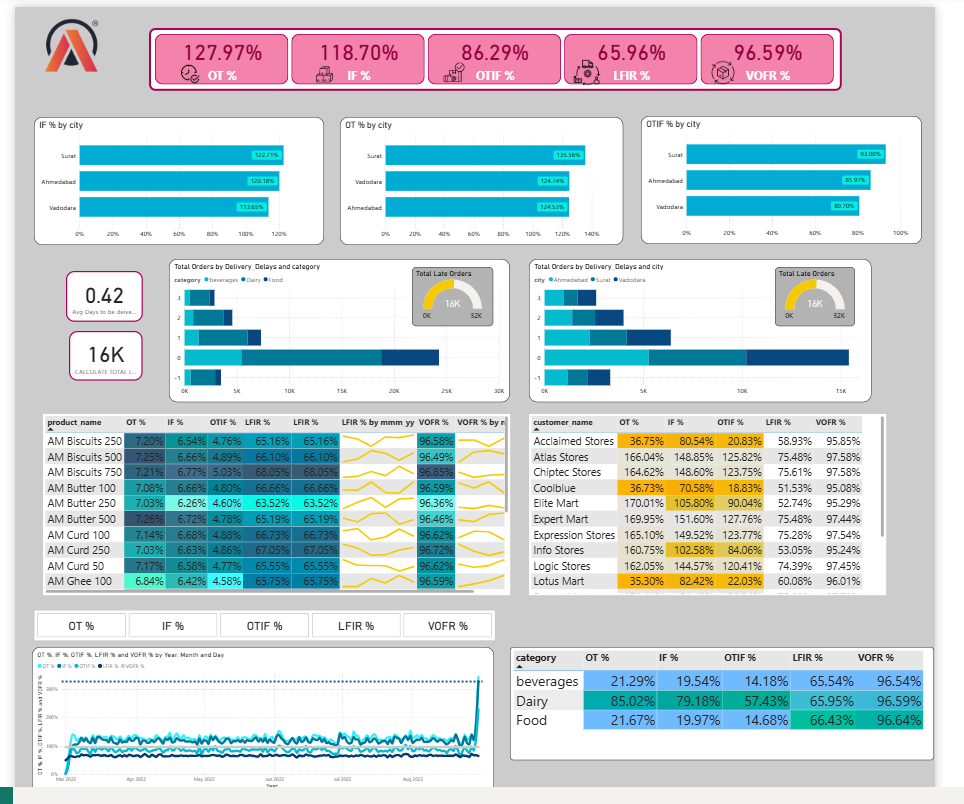

What the dashboard file says about the page in this screenshot:
{"tool":"powerbi","page":{"name":"Page 1","canvas":[2300,2000],"ordinal":0},"visuals":[{"type":"cardVisual","fields":{"Data":["Metrics.On Time %","Metrics.IN Full %","Metrics.OTIF %","Metrics.LFIR %","Metrics.VOFR %"]},"box":[335,53.3,1731.7,156.7],"z":0},{"type":"clusteredBarChart","fields":{"Category":["dim_customers.city"],"Y":["Metrics.IF %"]},"box":[47.5,275,725,320],"z":1000},{"type":"clusteredBarChart","fields":{"Category":["dim_customers.city"],"Y":["Metrics.OT %"]},"box":[813.3,275,708.3,320],"z":2000},{"type":"clusteredBarChart","fields":{"Category":["dim_customers.city"],"Y":["Metrics.OTIF %"]},"box":[1565,273.3,701.7,320],"z":3000},{"type":"tableEx","fields":{"Values":["dim_products.product_name","Metrics.OT %","Metrics.IF %","Metrics.OTIF %","Metrics.LFIR %","Metrics.LFIR %","SparklineData(Metrics.LFIR %_[dim_date.mmm_yy])","Metrics.VOFR %","SparklineData(Metrics.VOFR %_[dim_date.mmm_yy])"]},"box":[70,1017.5,1167.5,452.5],"z":4000},{"type":"tableEx","fields":{"Values":["dim_products.category","Metrics.OT %","Metrics.IF %","Metrics.OTIF %","Metrics.LFIR %","Metrics.VOFR %"]},"box":[1238.3,1600,1060,283.3],"z":5000},{"type":"tableEx","fields":{"Values":["dim_customers.customer_name","Metrics.OT %","Metrics.IF %","Metrics.OTIF %","Metrics.LFIR %","Metrics.VOFR %"]},"box":[1285,1017.5,892.5,452.5],"z":6000},{"type":"advancedSlicerVisual","fields":{"Values":["Parameter 2.Parameter"]},"box":[48.3,1506.7,1153.3,76.7],"z":8000},{"type":"barChart","fields":{"Category":["fact_order_lines.Delivery_Delays"],"Y":["Metrics.Total Orders"],"Series":["dim_customers.city"]},"box":[1286,630,856,358],"z":9000},{"type":"barChart","fields":{"Category":["fact_order_lines.Delivery_Delays"],"Y":["Metrics.Total Orders"],"Series":["dim_products.category"]},"box":[386,630,852,358],"z":10000},{"type":"card","fields":{"Values":["Metrics.Avg Days to be deivered"]},"box":[128.3,660,191.7,126.7],"z":11000},{"type":"card","fields":{"Values":["Metrics.CALCULATE TOTAL LATE ORDERS"]},"box":[136,810,184,124],"z":12000},{"type":"gauge","title":"Total Late Orders","fields":{"Y":["Metrics.CALCULATE TOTAL LATE ORDERS"],"MaxValue":["Metrics.Total Orders"]},"box":[992.5,650,202.5,147.5],"z":13000},{"type":"gauge","title":"Total Late Orders","fields":{"Y":["Metrics.CALCULATE TOTAL LATE ORDERS"],"MaxValue":["Metrics.Total Orders"]},"box":[1900,650,200,148.3],"z":14000},{"type":"lineChart","fields":{"Y":["Metrics.OT %","Metrics.IF %","Metrics.OTIF %","Metrics.LFIR %","Metrics.VOFR %"],"Category":["dim_date.date.Variation.Date Hierarchy.Year","dim_date.date.Variation.Date Hierarchy.Month","dim_date.date.Variation.Date Hierarchy.Day"]},"box":[41.7,1600,1155,370],"z":15000},{"type":"image","box":[20,21.7,245,145],"z":17000},{"type":"image","box":[742,142,62,52],"z":17002},{"type":"image","box":[1048,132,100,62],"z":17003},{"type":"image","box":[1374,124,110,78],"z":17004},{"type":"image","box":[1714,124,110,78],"z":17005},{"type":"image","box":[410,138,56,60],"z":17008}]}

Visuals, with their boxes on the page's 2300x2000 design canvas (x1, y1, x2, y2). These are canvas units, not pixel positions in the 964x804 screenshot, which may show the page scaled, cropped or inside an application window:
cardVisual - Metrics.On Time % x Metrics.IN Full %: x1=335, y1=53, x2=2067, y2=210
clusteredBarChart - dim_customers.city x Metrics.IF %: x1=48, y1=275, x2=772, y2=595
clusteredBarChart - dim_customers.city x Metrics.OT %: x1=813, y1=275, x2=1522, y2=595
clusteredBarChart - dim_customers.city x Metrics.OTIF %: x1=1565, y1=273, x2=2267, y2=593
tableEx - dim_products.product_name x Metrics.OT %: x1=70, y1=1018, x2=1238, y2=1470
tableEx - dim_products.category x Metrics.OT %: x1=1238, y1=1600, x2=2298, y2=1883
tableEx - dim_customers.customer_name x Metrics.OT %: x1=1285, y1=1018, x2=2178, y2=1470
advancedSlicerVisual - Parameter 2.Parameter: x1=48, y1=1507, x2=1202, y2=1583
barChart - fact_order_lines.Delivery_Delays x Metrics.Total Orders: x1=1286, y1=630, x2=2142, y2=988
barChart - fact_order_lines.Delivery_Delays x Metrics.Total Orders: x1=386, y1=630, x2=1238, y2=988
card - Metrics.Avg Days to be deivered: x1=128, y1=660, x2=320, y2=787
card - Metrics.CALCULATE TOTAL LATE ORDERS: x1=136, y1=810, x2=320, y2=934
"Total Late Orders" gauge: x1=992, y1=650, x2=1195, y2=798
"Total Late Orders" gauge: x1=1900, y1=650, x2=2100, y2=798
lineChart - Metrics.OT % x Metrics.IF %: x1=42, y1=1600, x2=1197, y2=1970
image: x1=20, y1=22, x2=265, y2=167
image: x1=742, y1=142, x2=804, y2=194
image: x1=1048, y1=132, x2=1148, y2=194
image: x1=1374, y1=124, x2=1484, y2=202
image: x1=1714, y1=124, x2=1824, y2=202
image: x1=410, y1=138, x2=466, y2=198
